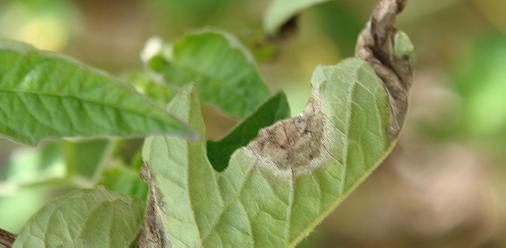Tomato leaf late blight: (5, 0, 446, 248), (0, 0, 239, 208)
